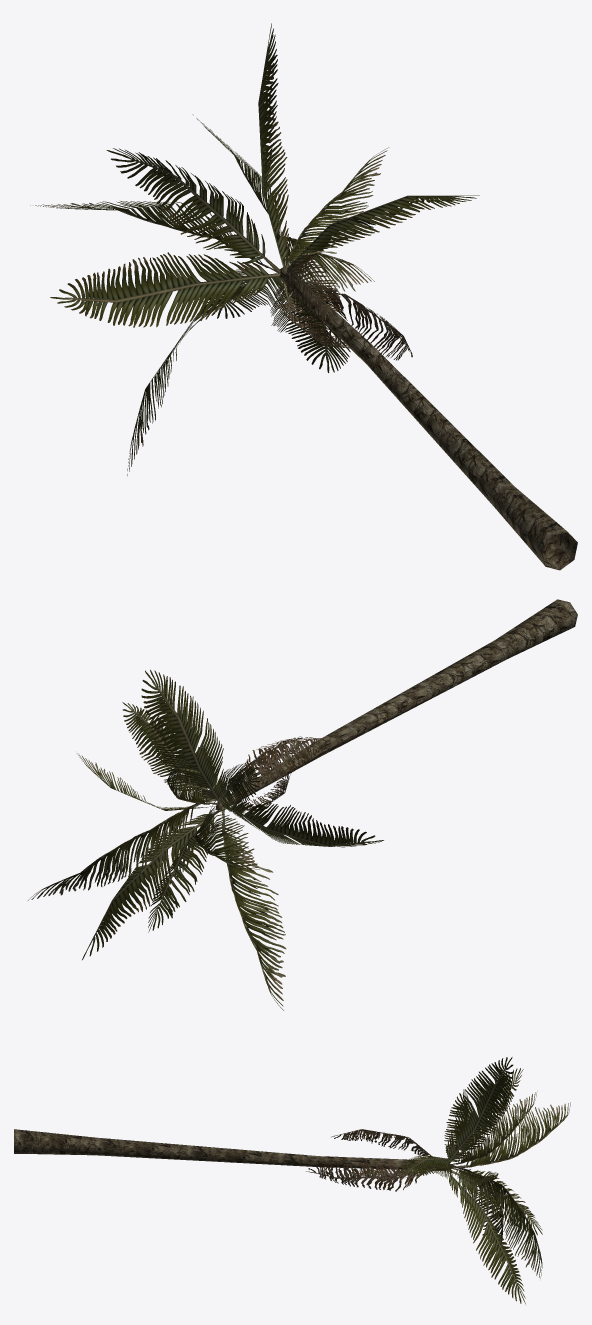
File: MEP_Palm_02_03.fbx
The picture shows the model from 3 angles, top to bottom: view 1: azimuth 30°, elevation 25°; view 2: azimuth 150°, elevation 25°; view 3: azimuth 270°, elevation 25°; orthographic projection. The views are drawn at different scales.
Visible parts, largest first — view 1: MEP_Palm_Leafs_03, Palm_Trunk_03; view 2: MEP_Palm_Leafs_03, Palm_Trunk_03; view 3: MEP_Palm_Leafs_03, Palm_Trunk_03.
Part boxes in pixels (left/top/right/bottom): MEP_Palm_Leafs_03: left=30, top=23, right=479, bottom=475; Palm_Trunk_03: left=279, top=267, right=577, bottom=570; MEP_Palm_Leafs_03: left=28, top=669, right=383, bottom=1010; Palm_Trunk_03: left=215, top=599, right=577, bottom=809; MEP_Palm_Leafs_03: left=306, top=1057, right=570, bottom=1304; Palm_Trunk_03: left=14, top=1129, right=453, bottom=1170.
Size of the model in its own units: 7.57 by 7.53 by 14.88.
